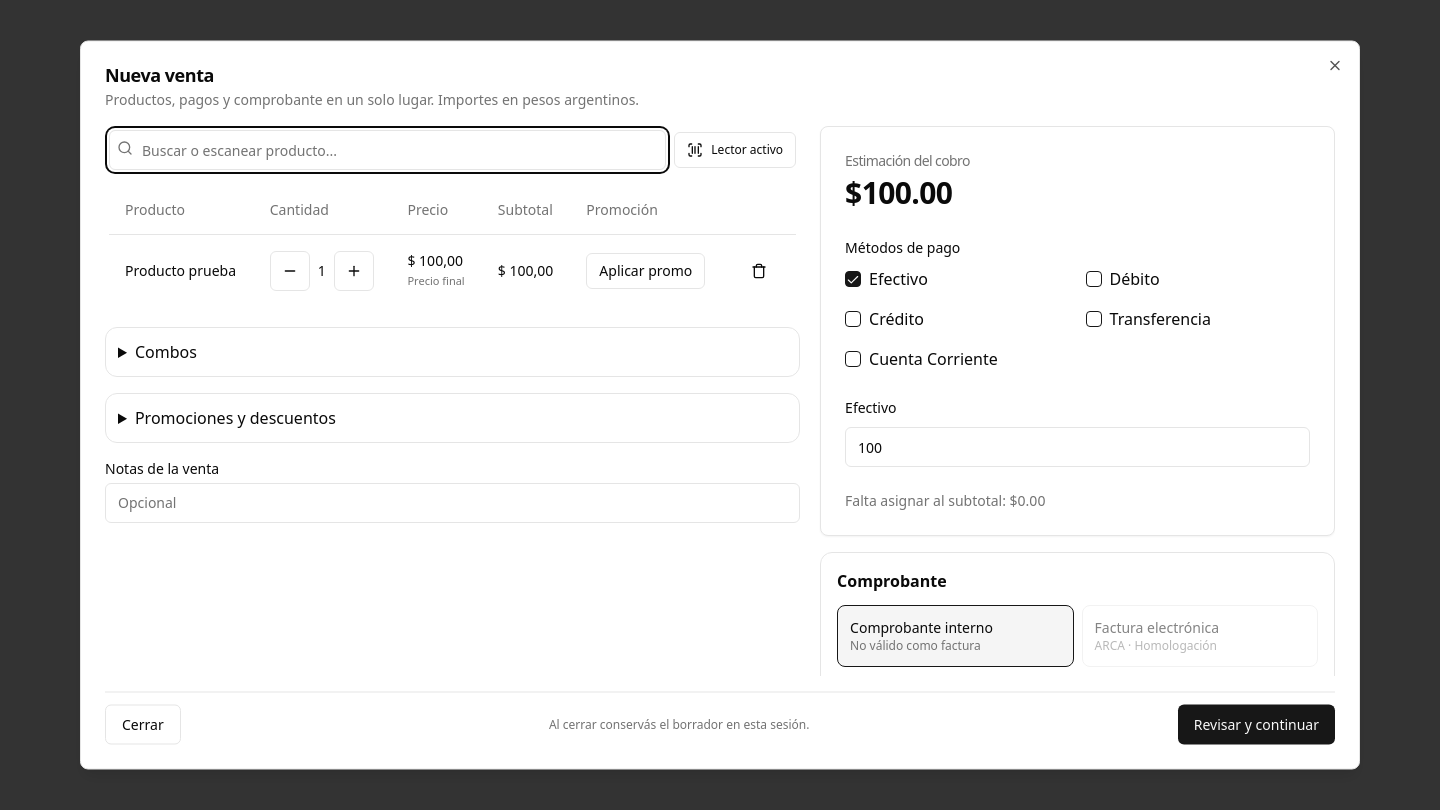
a rejected price change preserves the cart and requires another review
Click the button "Revisar y continuar" at (1256, 724), box [1178, 704, 1335, 744]
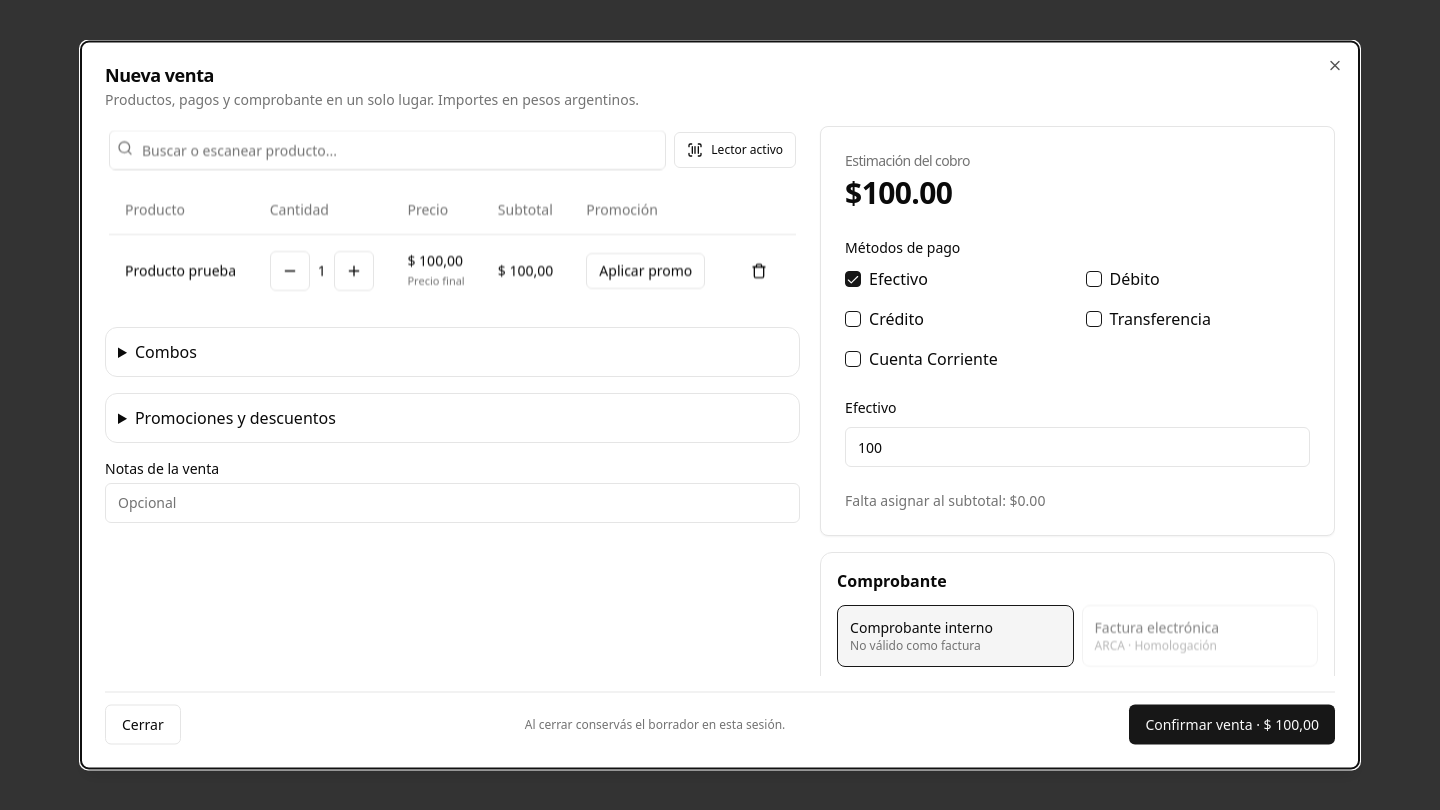
Click the button "Confirmar venta · $ 100,00" at (1232, 724), box [1129, 704, 1335, 744]
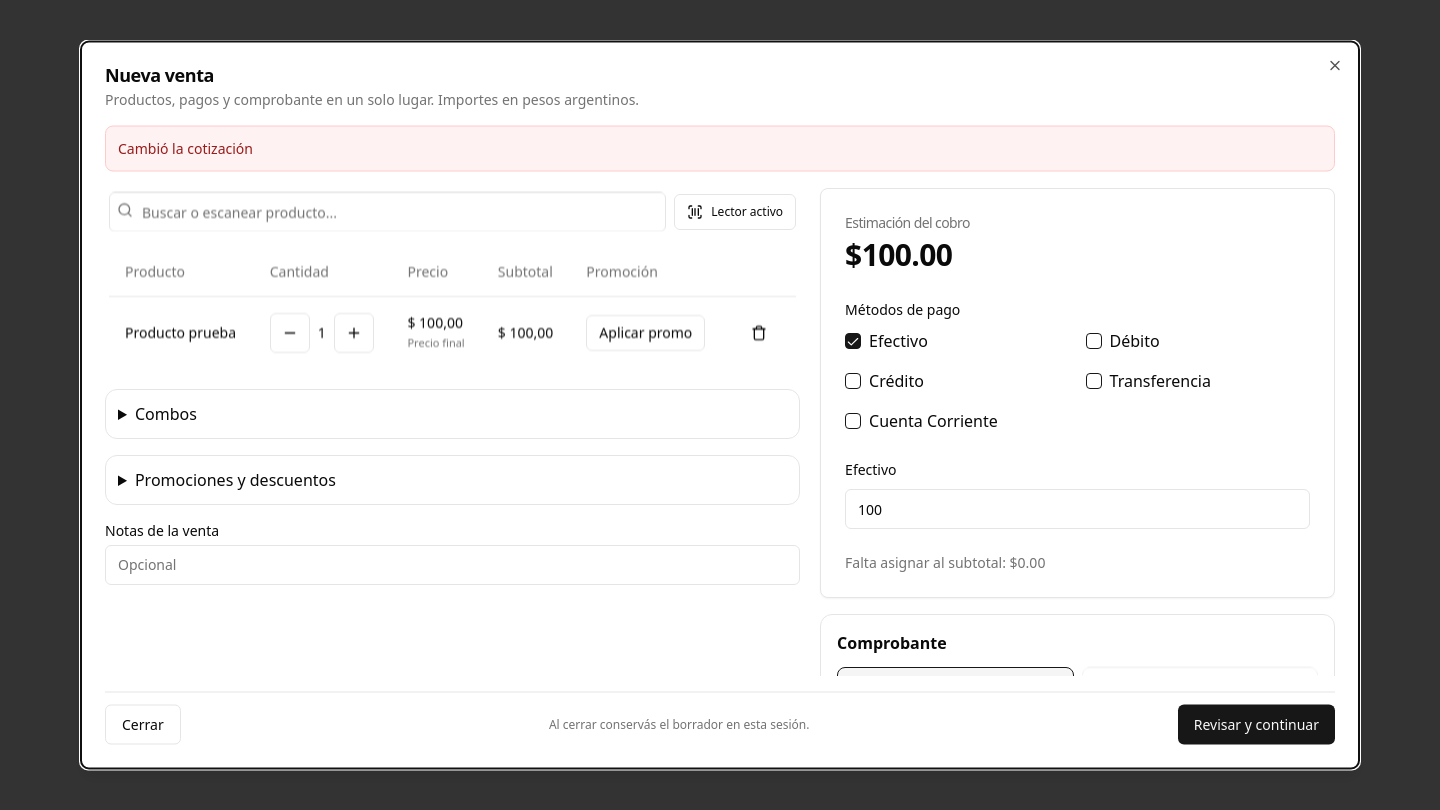
Now the text "Cambió la cotización" is shown, box [105, 126, 1335, 172]
Now the button "Revisar y continuar" is shown, box [1178, 704, 1335, 744]
